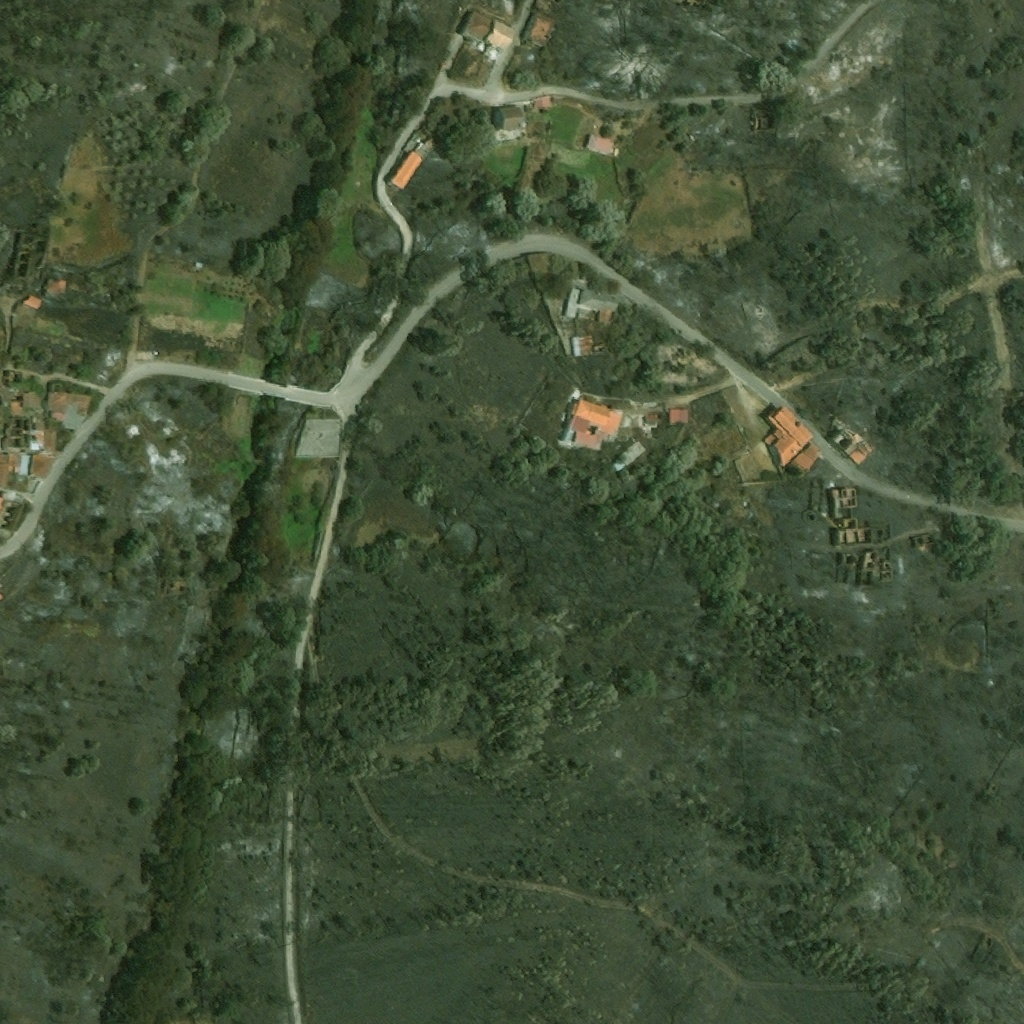0 no-damage: (764, 405, 816, 467), (564, 285, 619, 325), (571, 397, 621, 435), (46, 391, 92, 428), (391, 151, 423, 190), (523, 11, 555, 50), (459, 8, 495, 40), (613, 442, 647, 472), (794, 444, 822, 476), (491, 107, 525, 132), (486, 20, 514, 50), (30, 455, 54, 482), (585, 135, 614, 157), (849, 441, 872, 466), (9, 454, 29, 475), (22, 391, 43, 409), (482, 44, 503, 60), (21, 295, 43, 310), (576, 432, 597, 446), (670, 409, 688, 424), (50, 279, 66, 295), (534, 96, 552, 109), (0, 465, 9, 484), (644, 416, 659, 427), (193, 260, 205, 272), (0, 452, 8, 463)
1 minor-damage: (571, 334, 591, 357)
2 major-damage: (44, 430, 58, 453), (30, 430, 45, 449), (34, 418, 45, 430)
3 destroyed: (1, 417, 31, 449), (0, 496, 25, 532), (837, 518, 868, 547), (0, 387, 23, 413), (833, 428, 856, 452), (863, 550, 880, 571), (3, 370, 22, 385), (841, 553, 854, 564), (883, 562, 892, 577), (594, 345, 603, 353)
4 un-classified: (549, 0, 561, 4)
